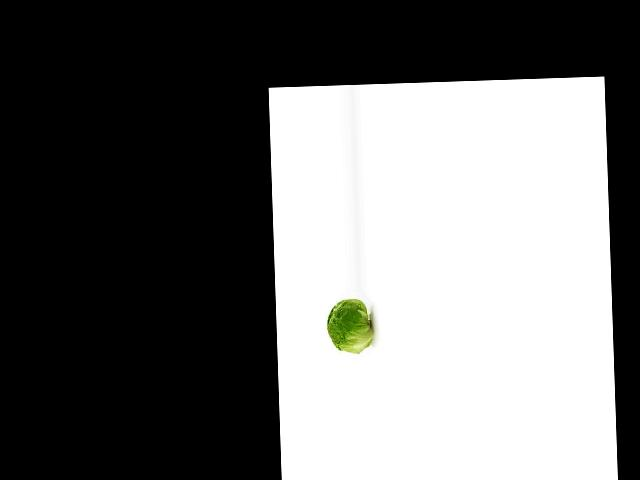lettuce: (324, 291, 370, 355)
